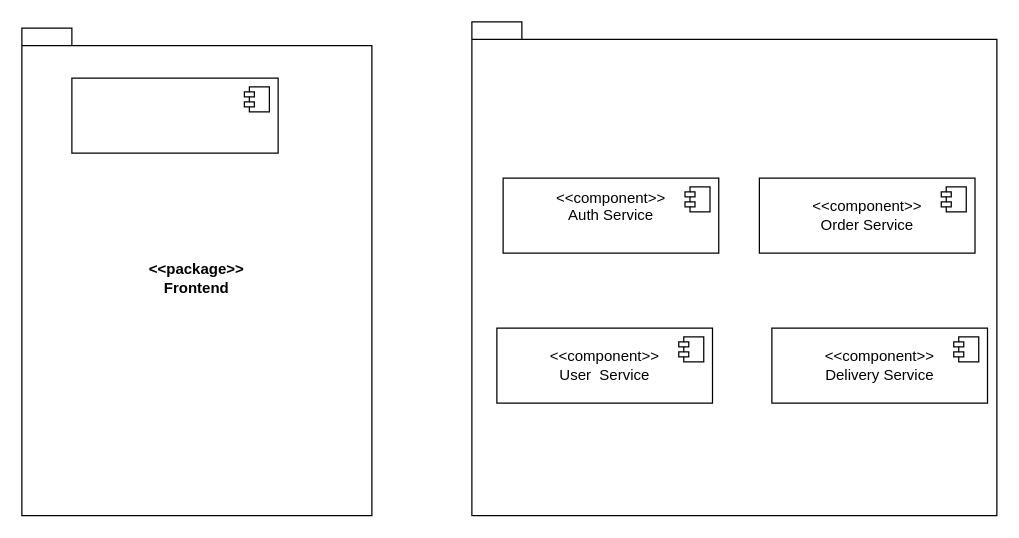
Image size: 1019x538. Some labels were removed from this diagram. Here are the shapes that lost their labels. From the top down, the box of each, then its label:
(71, 77, 278, 153): « Component » Web Client
(471, 21, 997, 516): <<package>> Backend
